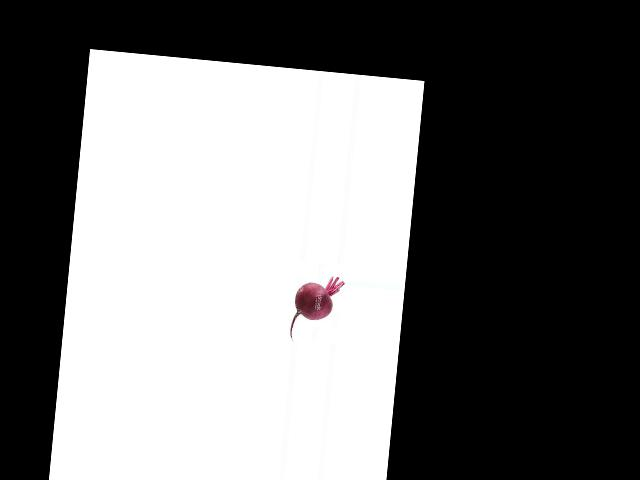beet: (289, 273, 344, 346)
